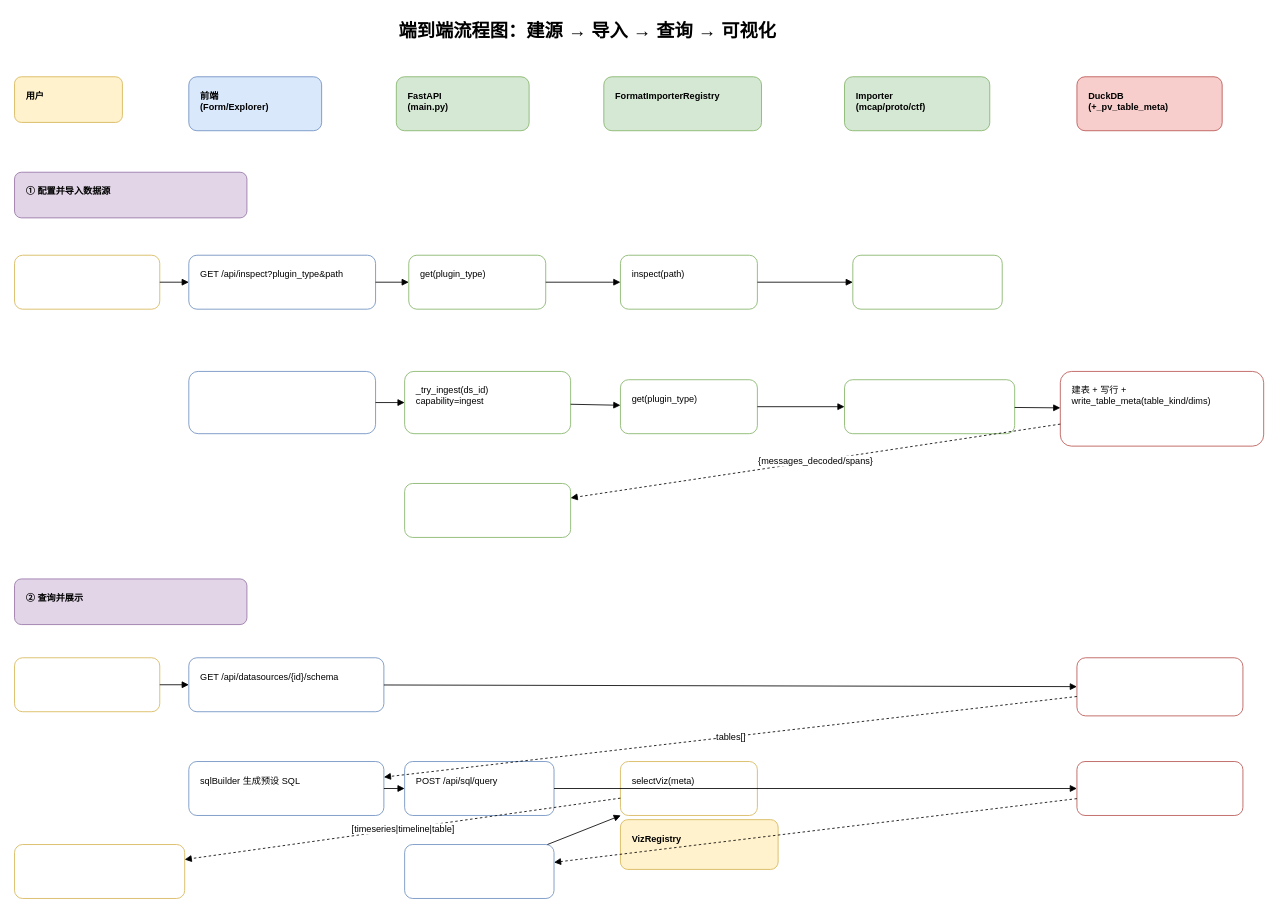
Image size: 1278x913. Some labels were removed from this diagram. The shapes that lost their labels are listed below. From the top down, each one's centre as x and y in pixels, then its label:
At [87,281]: "填写路径/类型，点击扫描".
At [927,281]: "topics / 区间信息".
At [282,402]: "保存数据源 POST /api/datasources".
At [929,406]: "ingest(db_path, settings)".
At [487,510]: "ingest_status = ready".
At [87,684]: "进入 Explorer，选数据源".
At [1159,686]: "get_schema 读 _pv_table_meta".
At [1159,788]: "run_query + 列语义推断".
At [99,871]: "渲染折线 / 泳道 / 表格".
At [479,871]: "columns / rows / meta".
